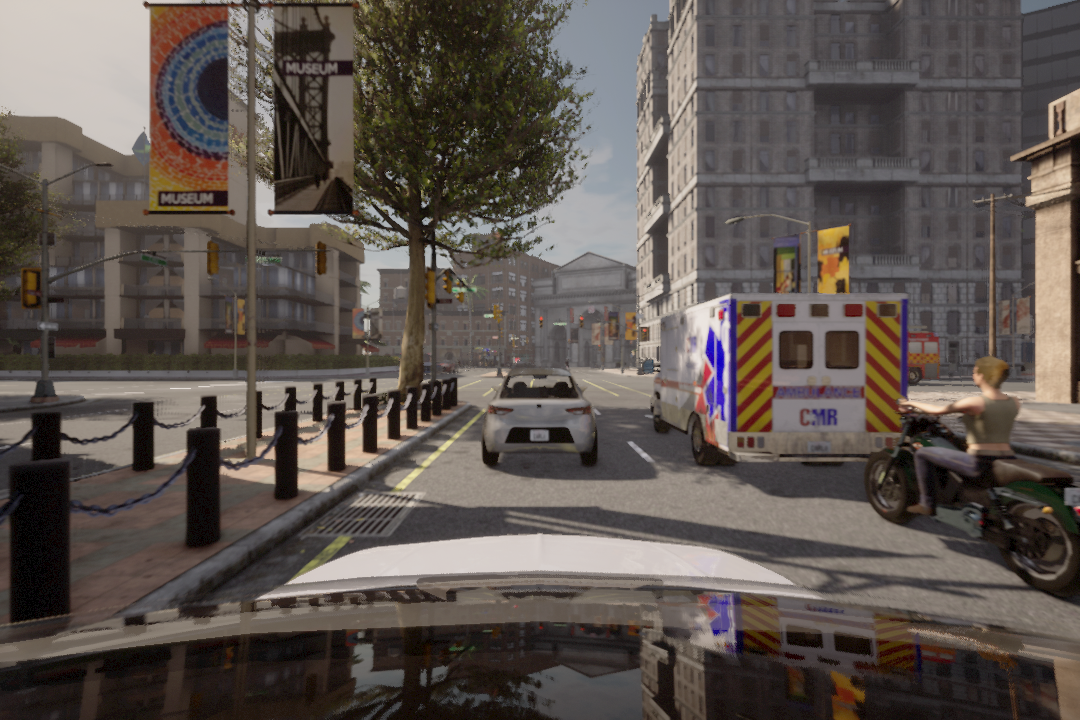TrafficLight: (578, 315, 585, 331), (537, 316, 543, 330)
